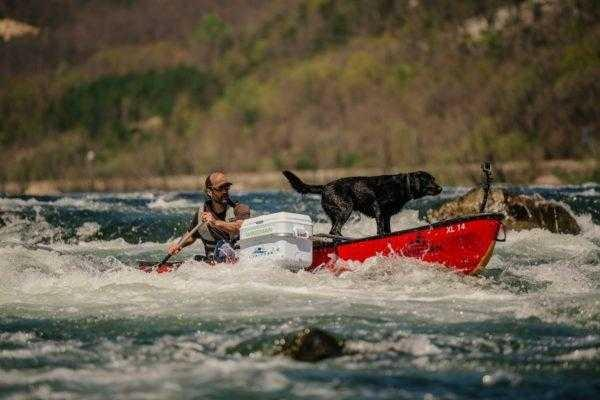kayak: (311, 212, 506, 276)
